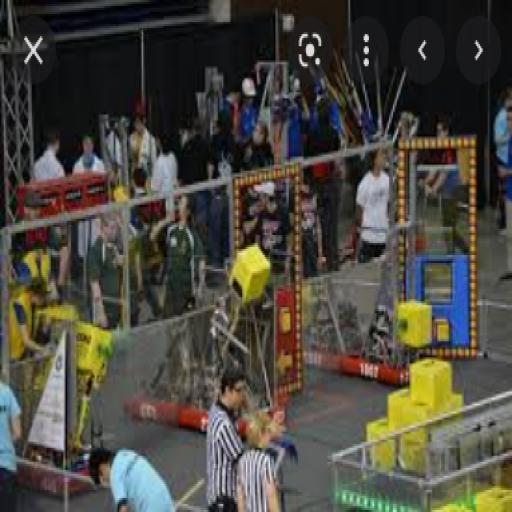robot: (186, 243, 289, 432), (344, 225, 432, 387)
